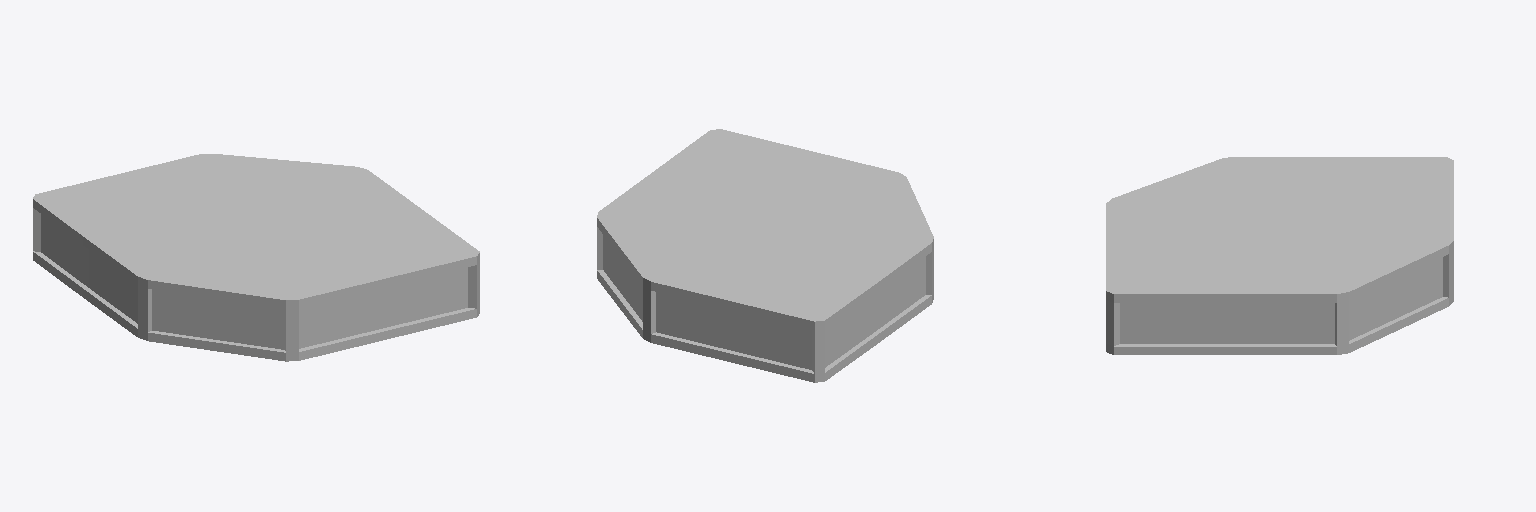
File: building_large_01_bot.obj
3 views of the same model, side by side, from view 1: azimuth 30°, elevation 25°; view 2: azimuth 150°, elevation 25°; view 3: azimuth 270°, elevation 25° (orthographic).
Visible parts, largest first — view 1: Plane.005; view 2: Plane.005; view 3: Plane.005.
Part boxes in pixels (x1,y1,x2,y2): Plane.005: (33,154,479,361); Plane.005: (597,129,933,382); Plane.005: (1106,157,1453,354).
Bounding box in the file's own units: 84.58 × 17.56 × 90.37.